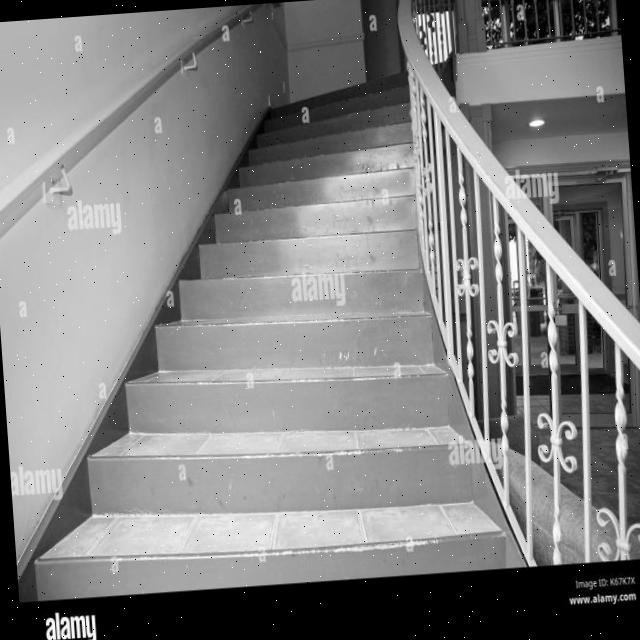stairs: (0, 60, 534, 602)
